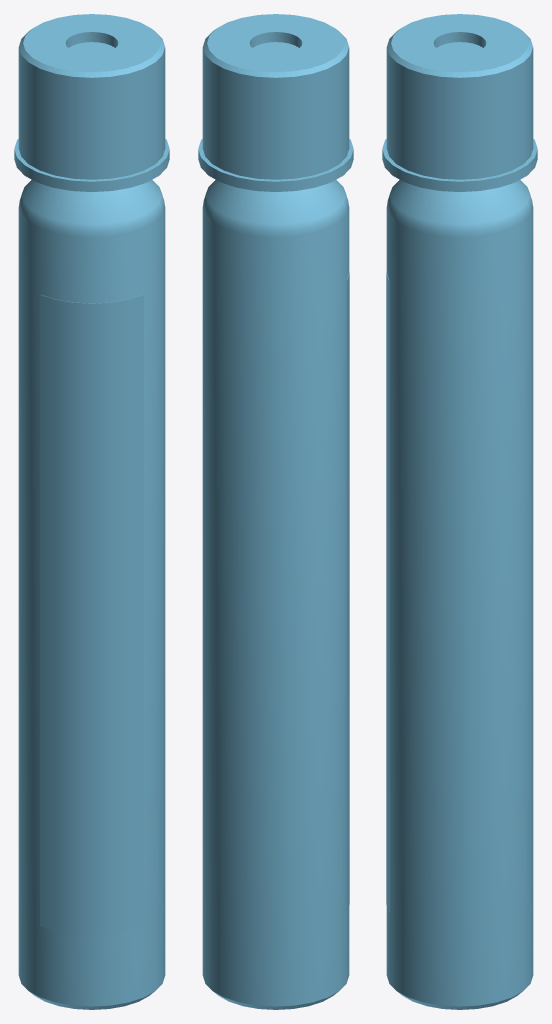
The model's file is FBX_EDTAbottle.fbx.
3 renders of one model, left to right at view 1: azimuth 30°, elevation 25°; view 2: azimuth 150°, elevation 25°; view 3: azimuth 270°, elevation 25°, orthographic.
Visible parts, largest first — view 1: SM_EDTAbottle_Body, EDTAbottle_Cap; view 2: SM_EDTAbottle_Body, EDTAbottle_Cap; view 3: SM_EDTAbottle_Body, EDTAbottle_Cap.
Boxes of the visible parts, x1=… form: SM_EDTAbottle_Body: x1=18, y1=180, x2=165, y2=1009; EDTAbottle_Cap: x1=14, y1=14, x2=169, y2=191; SM_EDTAbottle_Body: x1=202, y1=180, x2=349, y2=1009; EDTAbottle_Cap: x1=198, y1=14, x2=353, y2=191; SM_EDTAbottle_Body: x1=386, y1=180, x2=533, y2=1009; EDTAbottle_Cap: x1=382, y1=14, x2=537, y2=191.
Size of the model in its own units: 0.0347 by 0.2311 by 0.0347.
